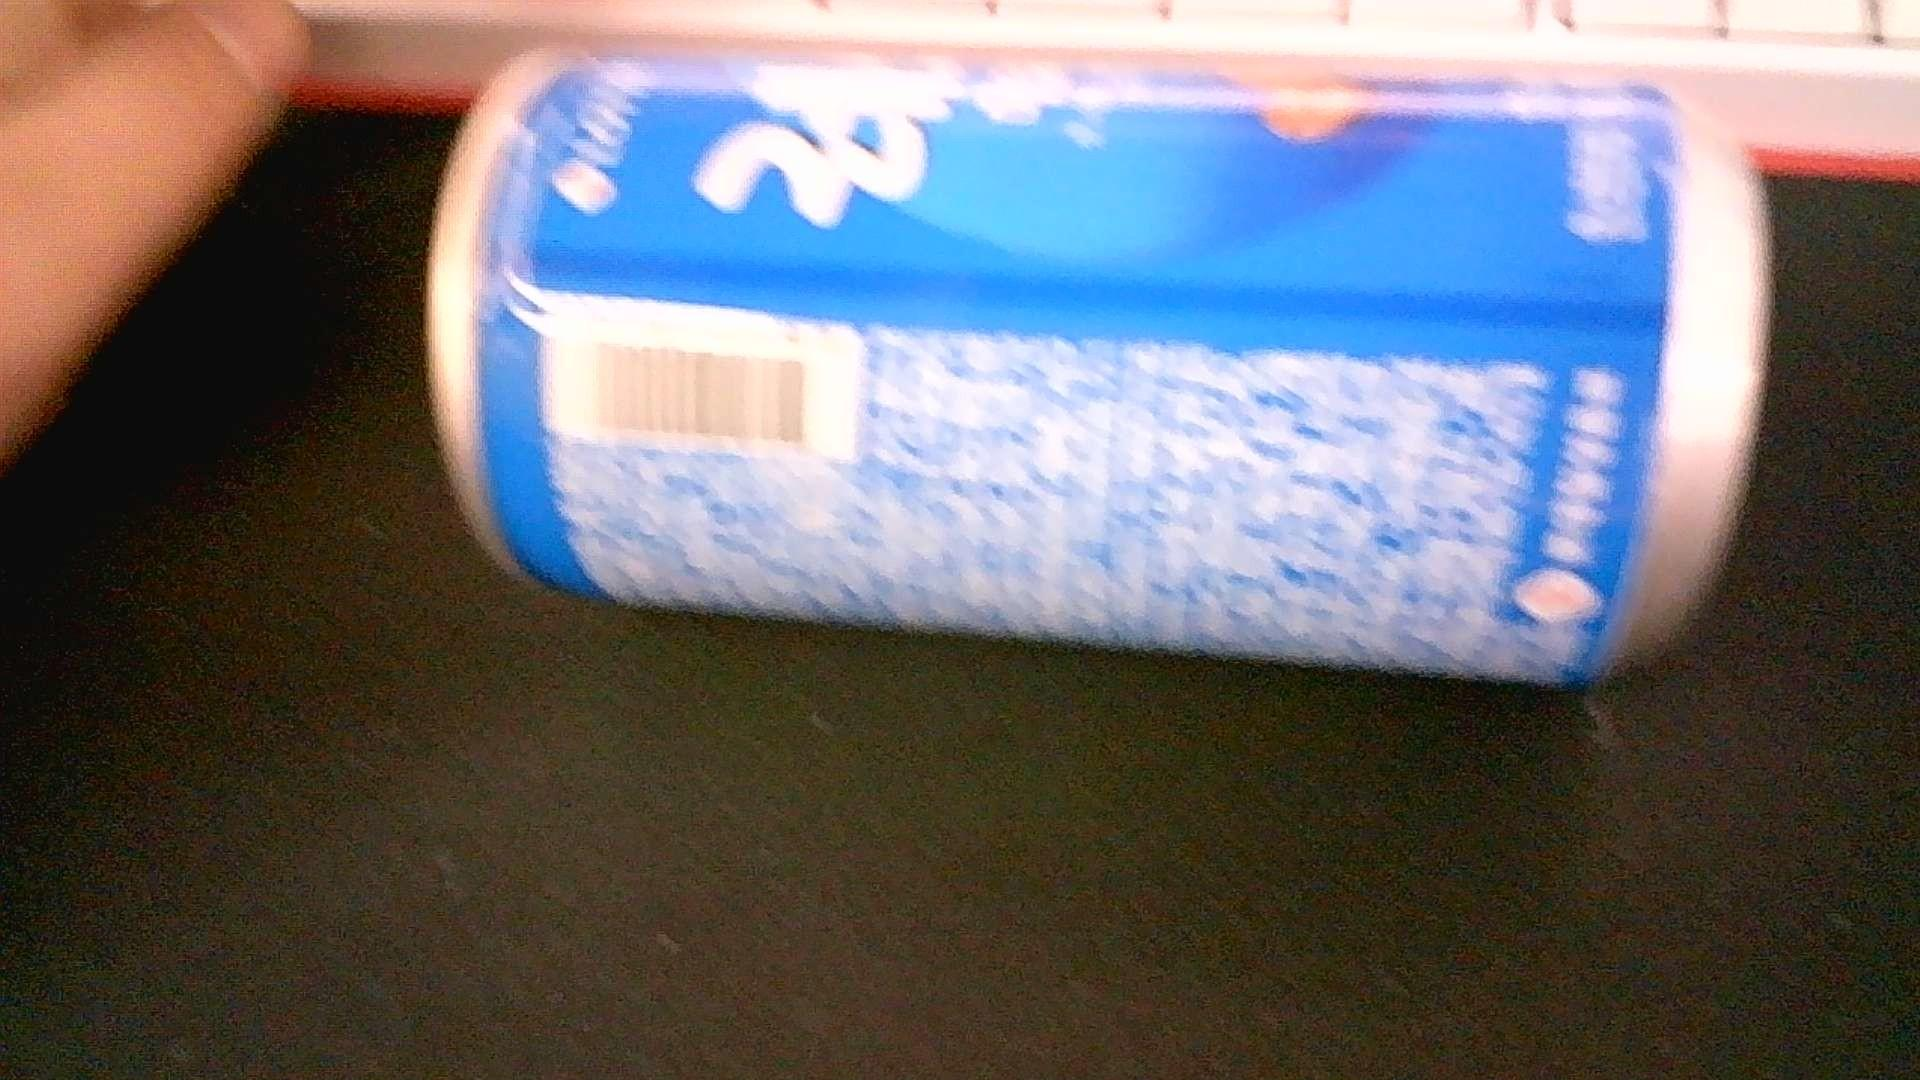letsbe: (427, 42, 1771, 688)
